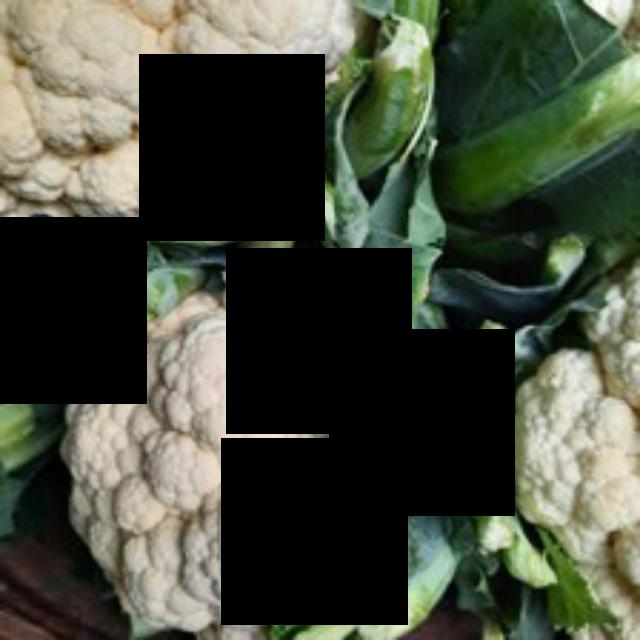cauliflower: (68, 271, 366, 637)
